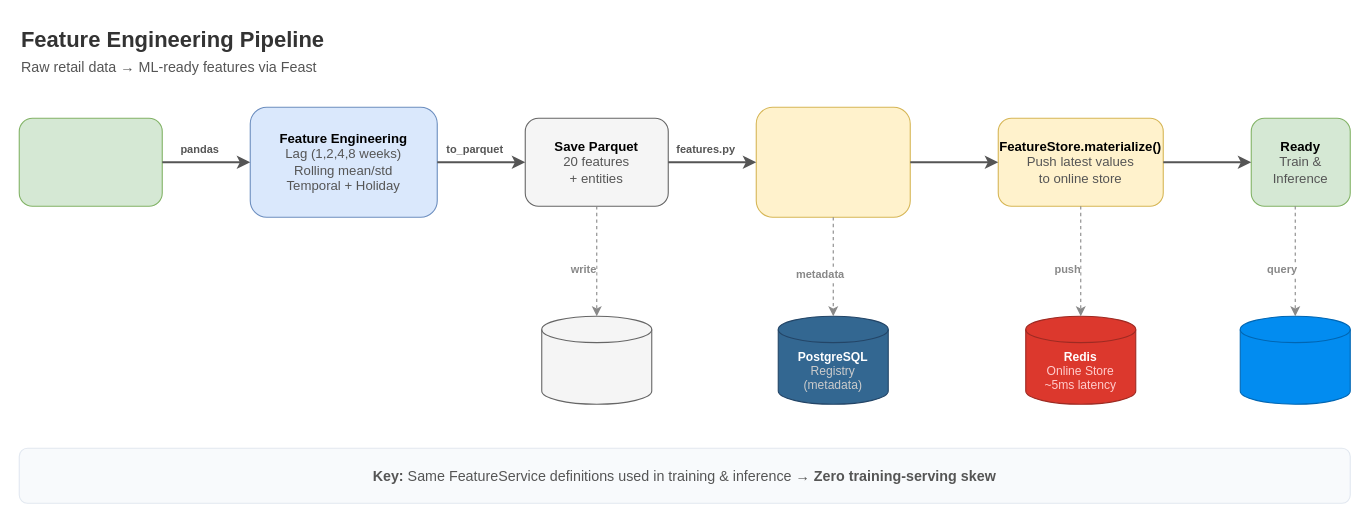
This 1370x523 diagram has some shape labels left out. The shapes that lost their labels are listed below. From the top down, each one's centre as x and y in pixels, then its label:
At pixel 90 161: "Raw Data 4 CSV files 65,535 rows".
At pixel 832 161: "FeatureStore.apply() Register entities FeatureViews FeatureServices".
At pixel 596 359: "Shared PVC Parquet files".
At pixel 1294 359: "Ray Offline Store (distributed)".
